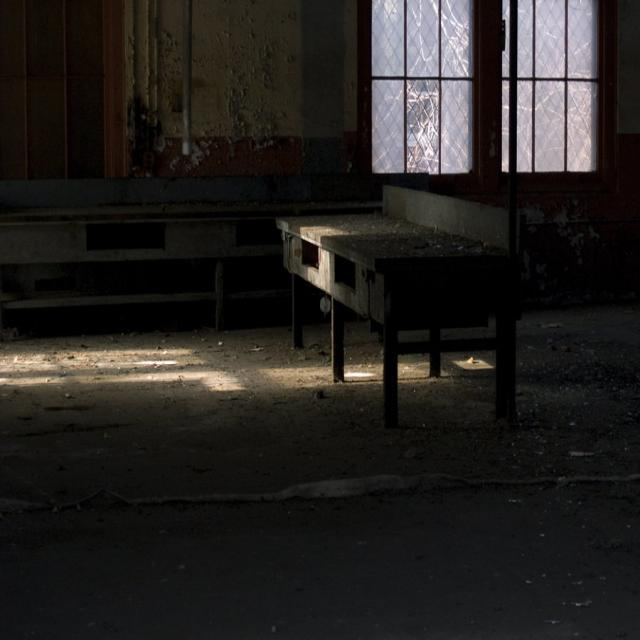Table: (269, 185, 536, 466), (0, 158, 298, 366)
